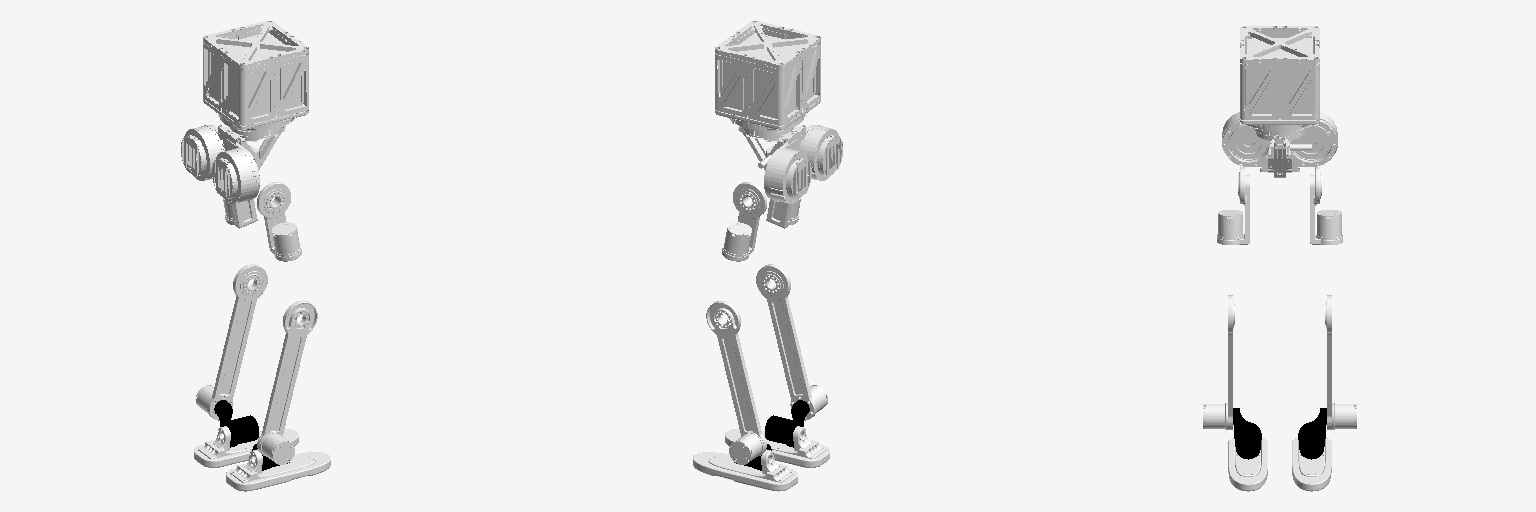
URDF robot description (wsybot):
<?xml version="1.0" encoding="utf-8"?>
<!-- This URDF was automatically created by SolidWorks to URDF Exporter! Originally created by [author] ([email redacted]) 
     Commit Version: 1.6.0-4-g7f85cfe  Build Version: 1.6.7995.38578
     For more information, please see http://wiki.ros.org/sw_urdf_exporter -->
<robot
  name="wsybot">
  <link
    name="base_link">
    <inertial>
      <origin
        xyz="-0.00320379 0.00004241 0.10854884"
        rpy="0 0 0" />
      <mass
        value="12.55685371" />
      <inertia
        ixx="0.29550389"
        ixy="-0.00003967"
        ixz="-0.03395022"
        iyy="0.30018885"
        iyz="0.00002645"
        izz="0.07985153" />
    </inertial>
    <visual>
      <origin
        xyz="0 0 0"
        rpy="0 0 0" />
      <geometry>
        <mesh
          filename="../meshes/base_link.STL" />
      </geometry>
      <material
        name="">
        <color
          rgba="1 1 1 1" />
      </material>
    </visual>
    <collision>
      <origin
        xyz="0 0 0"
        rpy="0 0 0" />
      <geometry>
        <box size="0.3 0.3 0.1" />
        <!-- <mesh
          filename="package://wsybot/meshes/base_link.STL" /> -->
      </geometry>
    </collision>
  </link>
  <link
    name="left_leg_roll_link">
    <inertial>
      <origin
        xyz="0.04106347 0.03787478 -0.06896879"
        rpy="0 0 0" />
      <mass
        value="1.78165449" />
      <inertia
        ixx="0.01287351"
        ixy="-0.00313362"
        ixz="0.00564327"
        iyy="0.01407438"
        iyz="0.00503339"
        izz="0.00728666" />
    </inertial>
    <visual>
      <origin
        xyz="0 0 0"
        rpy="0 0 0" />
      <geometry>
        <mesh
          filename="../meshes/left_leg_roll_link.STL" />
      </geometry>
      <material
        name="">
        <color
          rgba="0 0 0 1" />
      </material>
    </visual>
    <!-- <collision>
      <origin
        xyz="0 0 0"
        rpy="0 0 0" />
      <geometry>
        <mesh
          filename="package://wsybot/meshes/left_leg_roll_link.STL" />
      </geometry>
    </collision> -->
  </link>
  <joint
    name="left_leg_roll_joint"
    type="revolute">
    <origin
      xyz="-0.027 0.07 -0.01"
      rpy="0 0 0" />
    <parent
      link="base_link" />
    <child
      link="left_leg_roll_link" />
    <axis
      xyz="1 0 0" />
    <limit
      lower="-0.15"
      upper="0.7"
      effort="120"
      velocity="10.472" />
    <dynamics
      damping="0"
      friction="0" />
  </joint>
  <link
    name="left_leg_pitch_link">
    <inertial>
      <origin
        xyz="0.01342301 0.03124800 -0.07612561"
        rpy="0 0 0" />
      <mass
        value="0.71641931" />
      <inertia
        ixx="0.00623486"
        ixy="-0.00034223"
        ixz="0.00091218"
        iyy="0.00559904"
        iyz="0.00194088"
        izz="0.00122250" />
    </inertial>
    <visual>
      <origin
        xyz="0 0 0"
        rpy="0 0 0" />
      <geometry>
        <mesh
          filename="../meshes/left_leg_pitch_link.STL" />
      </geometry>
      <material
        name="">
        <color
          rgba="1 1 1 1" />
      </material>
    </visual>
    <!-- <collision>
      <origin
        xyz="0 0 0"
        rpy="0 0 0" />
      <geometry>
        <mesh
          filename="package://wsybot/meshes/left_leg_pitch_link.STL" />
      </geometry>
    </collision> -->
  </link>
  <joint
    name="left_leg_pitch_joint"
    type="revolute">
    <origin
      xyz="0.047 -0.0025 -0.075"
      rpy="0 0 0" />
    <parent
      link="left_leg_roll_link" />
    <child
      link="left_leg_pitch_link" />
    <axis
      xyz="0 -1 0" />
    <limit
      lower="-1"
      upper="1.2"
      effort="120"
      velocity="10.472" />
    <dynamics
      damping="0"
      friction="0" />
  </joint>
  <link
    name="left_leg_yaw_link">
    <inertial>
      <origin
        xyz="0.02393012 -0.03135613 -0.13508813"
        rpy="0 0 0" />
      <mass
        value="1.79523840" />
      <inertia
        ixx="0.03895026"
        ixy="0.00134307"
        ixz="0.00641611"
        iyy="0.03869567"
        iyz="-0.00758373"
        izz="0.00387311" />
    </inertial>
    <visual>
      <origin
        xyz="0 0 0"
        rpy="0 0 0" />
      <geometry>
        <mesh
          filename="../meshes/left_leg_yaw_link.STL" />
      </geometry>
      <material
        name="">
        <color
          rgba="0 0 0 1" />
      </material>
    </visual>
    <!-- <collision>
      <origin
        xyz="0 0 0"
        rpy="0 0 0" />
      <geometry>
        <mesh
          filename="package://wsybot/meshes/left_leg_yaw_link.STL" />
      </geometry>
    </collision> -->
  </link>
  <joint
    name="left_leg_yaw_joint"
    type="revolute">
    <origin
      xyz="0.025439 0.0435 -0.14427"
      rpy="0 0 0" />
    <parent
      link="left_leg_pitch_link" />
    <child
      link="left_leg_yaw_link" />
    <axis
      xyz="0.17365 0 -0.98481" />
    <limit
      lower="-1"
      upper="1"
      effort="27"
      velocity="5.5" />
    <dynamics
      damping="0"
      friction="0" />
  </joint>
  <link
    name="left_knee_link">
    <inertial>
      <origin
        xyz="-0.05441734 0.00833591 -0.20322786"
        rpy="0 0 0" />
      <mass
        value="0.82452135" />
      <inertia
        ixx="0.04448654"
        ixy="0.00066780"
        ixz="-0.01178119"
        iyy="0.04750783"
        iyz="0.00249632"
        izz="0.00363954" />
    </inertial>
    <visual>
      <origin
        xyz="0 0 0"
        rpy="0 0 0" />
      <geometry>
        <mesh
          filename="../meshes/left_knee_link.STL" />
      </geometry>
      <material
        name="">
        <color
          rgba="1 1 1 1" />
      </material>
    </visual>
    <collision>
      <origin
        xyz="0 0 0"
        rpy="0 0 0" />
      <geometry>
        <cylinder length="0.3" radius="0.08" />
        <!-- <mesh
          filename="package://wsybot/meshes/left_knee_link.STL" /> -->
      </geometry>
    </collision>
  </link>
  <joint
    name="left_knee_joint"
    type="revolute">
    <origin
      xyz="0.026655 0.0067 -0.15117"
      rpy="0 0 0" />
    <parent
      link="left_leg_yaw_link" />
    <child
      link="left_knee_link" />
    <axis
      xyz="0 1 0" />
    <limit
      lower="-0.4"
      upper="1.5"
      effort="120"
      velocity="10.472" />
    <dynamics
      damping="0"
      friction="0" />
  </joint>
  <link
    name="left_ankle_pitch_link">
    <inertial>
      <origin
        xyz="0.02342857 -0.01514997 -0.04370008"
        rpy="0 0 0" />
      <mass
        value="0.51356956" />
      <inertia
        ixx="0.00138393"
        ixy="0.00023036"
        ixz="0.00060294"
        iyy="0.00158552"
        iyz="-0.00042067"
        izz="0.00064396" />
    </inertial>
    <visual>
      <origin
        xyz="0 0 0"
        rpy="0 0 0" />
      <geometry>
        <mesh
          filename="../meshes/left_ankle_pitch_link.STL" />
      </geometry>
      <material
        name="">
        <color
          rgba="0 0 0 1" />
      </material>
    </visual>
    <!-- <collision>
      <origin
        xyz="0 0 0"
        rpy="0 0 0" />
      <geometry>
        <mesh
          filename="package://wsybot/meshes/left_ankle_pitch_link.STL" />
      </geometry>
    </collision> -->
  </link>
  <joint
    name="left_ankle_pitch_joint"
    type="revolute">
    <origin
      xyz="-0.077646 -0.027 -0.28978"
      rpy="0 0 0" />
    <parent
      link="left_knee_link" />
    <child
      link="left_ankle_pitch_link" />
    <axis
      xyz="0 -1 0" />
    <limit
      lower="-1"
      upper="1"
      effort="27"
      velocity="5.5" />
    <dynamics
      damping="0"
      friction="0" />
  </joint>
  <link
    name="left_ankle_roll_link">
    <inertial>
      <origin
        xyz="0.04368726 0 -0.03574426"
        rpy="0 0 0" />
      <mass
        value="0.55731183" />
      <inertia
        ixx="0.00105220"
        ixy="0.0"
        ixz="0.00100438"
        iyy="0.00396485"
        iyz="0.0"
        izz="0.00336644" />
    </inertial>
    <visual>
      <origin
        xyz="0 0 0"
        rpy="0 0 0" />
      <geometry>
        <mesh
          filename="../meshes/left_ankle_roll_link.STL" />
      </geometry>
      <material
        name="">
        <color
          rgba="1 1 1 1" />
      </material>
    </visual>
    <collision>
      <origin
        xyz="0 0 0"
        rpy="0 0 0" />
      <geometry>
        <mesh
          filename="../meshes/left_ankle_roll_link.STL" />
      </geometry>
    </collision>
  </link>
  <joint
    name="left_ankle_roll_joint"
    type="revolute">
    <origin
      xyz="-0.021 -0.019 -0.05"
      rpy="0 0 0" />
    <parent
      link="left_ankle_pitch_link" />
    <child
      link="left_ankle_roll_link" />
    <axis
      xyz="-1 0 0" />
    <limit
      lower="-0.5"
      upper="0.5"
      effort="27"
      velocity="5.5" />
    <dynamics
      damping="0"
      friction="0" />
  </joint>
  <link
    name="right_leg_roll_link">
    <inertial>
      <origin
        xyz="0.04127865 -0.03787215 -0.06896401"
        rpy="0 0 0" />
      <mass
        value="1.78177814" />
      <inertia
        ixx="0.01287354"
        ixy="0.00315071"
        ixz="0.00567387"
        iyy="0.01411116"
        iyz="-0.00503339"
        izz="0.00732343" />
    </inertial>
    <visual>
      <origin
        xyz="0 0 0"
        rpy="0 0 0" />
      <geometry>
        <mesh
          filename="../meshes/right_leg_roll_link.STL" />
      </geometry>
      <material
        name="">
        <color
          rgba="0 0 0 1" />
      </material>
    </visual>
    <!-- <collision>
      <origin
        xyz="0 0 0"
        rpy="0 0 0" />
      <geometry>
        <mesh
          filename="package://wsybot/meshes/right_leg_roll_link.STL" />
      </geometry>
    </collision> -->
  </link>
  <joint
    name="right_leg_roll_joint"
    type="revolute">
    <origin
      xyz="-0.027 -0.07 -0.01"
      rpy="0 0 0" />
    <parent
      link="base_link" />
    <child
      link="right_leg_roll_link" />
    <axis
      xyz="1 0 0" />
    <limit
      lower="-0.7"
      upper="0.15"
      effort="120"
      velocity="10.472" />
    <dynamics
      damping="0"
      friction="0" />
  </joint>
  <link
    name="right_leg_pitch_link">
    <inertial>
      <origin
        xyz="0.01342299 -0.03124800 -0.07612561"
        rpy="0 0 0" />
      <mass
        value="0.71641931" />
      <inertia
        ixx="0.00623486"
        ixy="0.00034223"
        ixz="0.00091217"
        iyy="0.00559904"
        iyz="-0.00194088"
        izz="0.00122250" />
    </inertial>
    <visual>
      <origin
        xyz="0 0 0"
        rpy="0 0 0" />
      <geometry>
        <mesh
          filename="../meshes/right_leg_pitch_link.STL" />
      </geometry>
      <material
        name="">
        <color
          rgba="1 1 1 1" />
      </material>
    </visual>
    <!-- <collision>
      <origin
        xyz="0 0 0"
        rpy="0 0 0" />
      <geometry>
        <mesh
          filename="package://wsybot/meshes/right_leg_pitch_link.STL" />
      </geometry>
    </collision> -->
  </link>
  <joint
    name="right_leg_pitch_joint"
    type="revolute">
    <origin
      xyz="0.047 0.0025 -0.075"
      rpy="0 0 0" />
    <parent
      link="right_leg_roll_link" />
    <child
      link="right_leg_pitch_link" />
    <axis
      xyz="0 1 0" />
    <limit
      lower="-1.2"
      upper="1"
      effort="120"
      velocity="10.472" />
    <dynamics
      damping="0"
      friction="0" />
  </joint>
  <link
    name="right_leg_yaw_link">
    <inertial>
      <origin
        xyz="0.02371590 0.03135613 -0.13512590"
        rpy="0 0 0" />
      <mass
        value="1.79523840" />
      <inertia
        ixx="0.03897121"
        ixy="-0.00133171"
        ixz="0.00635855"
        iyy="0.03869567"
        iyz="0.00758573"
        izz="0.00385216" />
    </inertial>
    <visual>
      <origin
        xyz="0 0 0"
        rpy="0 0 0" />
      <geometry>
        <mesh
          filename="../meshes/right_leg_yaw_link.STL" />
      </geometry>
      <material
        name="">
        <color
          rgba="0 0 0 1" />
      </material>
    </visual>
    <!-- <collision>
      <origin
        xyz="0 0 0"
        rpy="0 0 0" />
      <geometry>
        <mesh
          filename="package://wsybot/meshes/right_leg_yaw_link.STL" />
      </geometry>
    </collision> -->
  </link>
  <joint
    name="right_leg_yaw_joint"
    type="revolute">
    <origin
      xyz="0.025439 -0.0435 -0.14427"
      rpy="0 0 0" />
    <parent
      link="right_leg_pitch_link" />
    <child
      link="right_leg_yaw_link" />
    <axis
      xyz="0.17365 0 -0.98481" />
    <limit
      lower="-1"
      upper="1"
      effort="27"
      velocity="5.5" />
    <dynamics
      damping="0"
      friction="0" />
  </joint>
  <link
    name="right_knee_link">
    <inertial>
      <origin
        xyz="-0.05441734 -0.00833591 -0.20322784"
        rpy="0 0 0" />
      <mass
        value="0.82452135" />
      <inertia
        ixx="0.04448653"
        ixy="-0.00066780"
        ixz="-0.01178120"
        iyy="0.04750783"
        iyz="-0.00249632"
        izz="0.00363954" />
    </inertial>
    <visual>
      <origin
        xyz="0 0 0"
        rpy="0 0 0" />
      <geometry>
        <mesh
          filename="../meshes/right_knee_link.STL" />
      </geometry>
      <material
        name="">
        <color
          rgba="1 1 1 1" />
      </material>
    </visual>
    <collision>
      <origin
        xyz="0 0 0"
        rpy="0 0 0" />
      <geometry>
        <cylinder length="0.3" radius="0.08" />
        <!-- <mesh
          filename="package://wsybot/meshes/right_knee_link.STL" /> -->
      </geometry>
    </collision>
  </link>
  <joint
    name="right_knee_joint"
    type="revolute">
    <origin
      xyz="0.026655 -0.0067 -0.15117"
      rpy="0 0 0" />
    <parent
      link="right_leg_yaw_link" />
    <child
      link="right_knee_link" />
    <axis
      xyz="0 -1 0" />
    <limit
      lower="-1.5"
      upper="0.4"
      effort="120"
      velocity="10.472" />
    <dynamics
      damping="0"
      friction="0" />
  </joint>
  <link
    name="right_ankle_pitch_link">
    <inertial>
      <origin
        xyz="0.02342857 0.01514997 -0.04370006"
        rpy="0 0 0" />
      <mass
        value="0.51356954" />
      <inertia
        ixx="0.00138392"
        ixy="-0.00023036"
        ixz="0.00060294"
        iyy="0.00158552"
        iyz="0.00042067"
        izz="0.00064396" />
    </inertial>
    <visual>
      <origin
        xyz="0 0 0"
        rpy="0 0 0" />
      <geometry>
        <mesh
          filename="../meshes/right_ankle_pitch_link.STL" />
      </geometry>
      <material
        name="">
        <color
          rgba="0 0 0 1" />
      </material>
    </visual>
    <!-- <collision>
      <origin
        xyz="0 0 0"
        rpy="0 0 0" />
      <geometry>
        <mesh
          filename="package://wsybot/meshes/right_ankle_pitch_link.STL" />
      </geometry>
    </collision> -->
  </link>
  <joint
    name="right_ankle_pitch_joint"
    type="revolute">
    <origin
      xyz="-0.077646 0.027 -0.28978"
      rpy="0 0 0" />
    <parent
      link="right_knee_link" />
    <child
      link="right_ankle_pitch_link" />
    <axis
      xyz="0 1 0" />
    <limit
      lower="-1"
      upper="1"
      effort="27"
      velocity="5.5" />
    <dynamics
      damping="0"
      friction="0" />
  </joint>
  <link
    name="right_ankle_roll_link">
    <inertial>
      <origin
        xyz="0.04368726 0.0 -0.03574426"
        rpy="0 0 0" />
      <mass
        value="0.55731183" />
      <inertia
        ixx="0.00105220"
        ixy="0.0"
        ixz="0.00100438"
        iyy="0.00396485"
        iyz="0.0"
        izz="0.00336644" />
    </inertial>
    <visual>
      <origin
        xyz="0 0 0"
        rpy="0 0 0" />
      <geometry>
        <mesh
          filename="../meshes/right_ankle_roll_link.STL" />
      </geometry>
      <material
        name="">
        <color
          rgba="1 1 1 1" />
      </material>
    </visual>
    <collision>
      <origin
        xyz="0 0 0"
        rpy="0 0 0" />
      <geometry>
        <mesh
          filename="../meshes/right_ankle_roll_link.STL" />
      </geometry>
    </collision>
  </link>
  <joint
    name="right_ankle_roll_joint"
    type="revolute">
    <origin
      xyz="-0.021 0.019 -0.05"
      rpy="0 0 0" />
    <parent
      link="right_ankle_pitch_link" />
    <child
      link="right_ankle_roll_link" />
    <axis
      xyz="-1 0 0" />
    <limit
      lower="-0.5"
      upper="0.5"
      effort="27"
      velocity="5.5" />
    <dynamics
      damping="0"
      friction="0" />
  </joint>
</robot>

--- Facts derived from the render (not from the file) ---
Views: 3 orthographic renders of the robot side by side, from view 1: azimuth 30°, elevation 25°; view 2: azimuth 150°, elevation 25°; view 3: azimuth 270°, elevation 25°.
Robot: wsybot — 13 links, 12 joints (12 revolute); root link base_link; default pose: every joint at zero.
Visible links, largest first — view 1: base_link, right_knee_link, left_knee_link, right_ankle_roll_link, right_leg_pitch_link, left_ankle_roll_link, left_ankle_pitch_link, left_leg_pitch_link; view 2: base_link, left_knee_link, right_knee_link, left_ankle_roll_link, left_leg_pitch_link, right_ankle_roll_link, right_ankle_pitch_link, right_leg_pitch_link; view 3: base_link, left_ankle_roll_link, right_ankle_roll_link, left_leg_pitch_link, right_leg_pitch_link, left_knee_link, right_knee_link, left_ankle_pitch_link, right_ankle_pitch_link.
Boxes of the visible links, x1,y1,x2,y2 form: base_link: (181, 21, 308, 203); right_knee_link: (257, 301, 317, 464); left_knee_link: (196, 264, 267, 420); right_ankle_roll_link: (226, 449, 330, 491); right_leg_pitch_link: (257, 182, 301, 261); left_ankle_roll_link: (194, 426, 298, 467); left_ankle_pitch_link: (214, 400, 258, 447); left_leg_pitch_link: (223, 198, 257, 228); base_link: (715, 20, 842, 203); left_knee_link: (706, 301, 766, 464); right_knee_link: (756, 264, 827, 420); left_ankle_roll_link: (693, 449, 797, 491); left_leg_pitch_link: (722, 182, 766, 261); right_ankle_roll_link: (725, 426, 829, 467); right_ankle_pitch_link: (765, 400, 809, 447); right_leg_pitch_link: (766, 198, 800, 228); base_link: (1222, 26, 1337, 177); left_ankle_roll_link: (1292, 438, 1331, 491); right_ankle_roll_link: (1228, 438, 1267, 491); left_leg_pitch_link: (1310, 167, 1342, 244); right_leg_pitch_link: (1217, 167, 1249, 244); left_knee_link: (1325, 295, 1356, 429); right_knee_link: (1203, 295, 1234, 429); left_ankle_pitch_link: (1298, 408, 1326, 459); right_ankle_pitch_link: (1233, 408, 1261, 459).
Bounding box of the posed robot: 0.2777 × 0.3469 × 1.07 m (x, y, z).
9 mesh visuals loaded from 13 distinct referenced files (9 binary STL); not drawn: 4 (reference not matched to a file when rendering).
